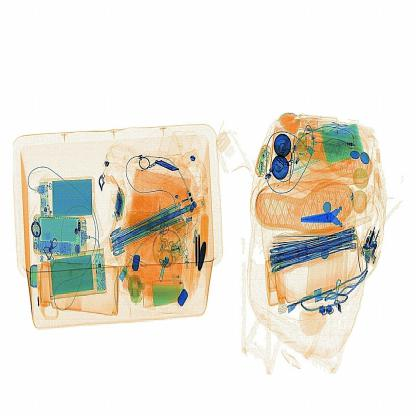gun: (299, 193, 370, 239)
